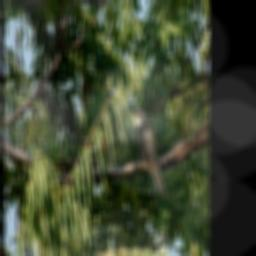Cuckoo: (129, 106, 170, 200)
